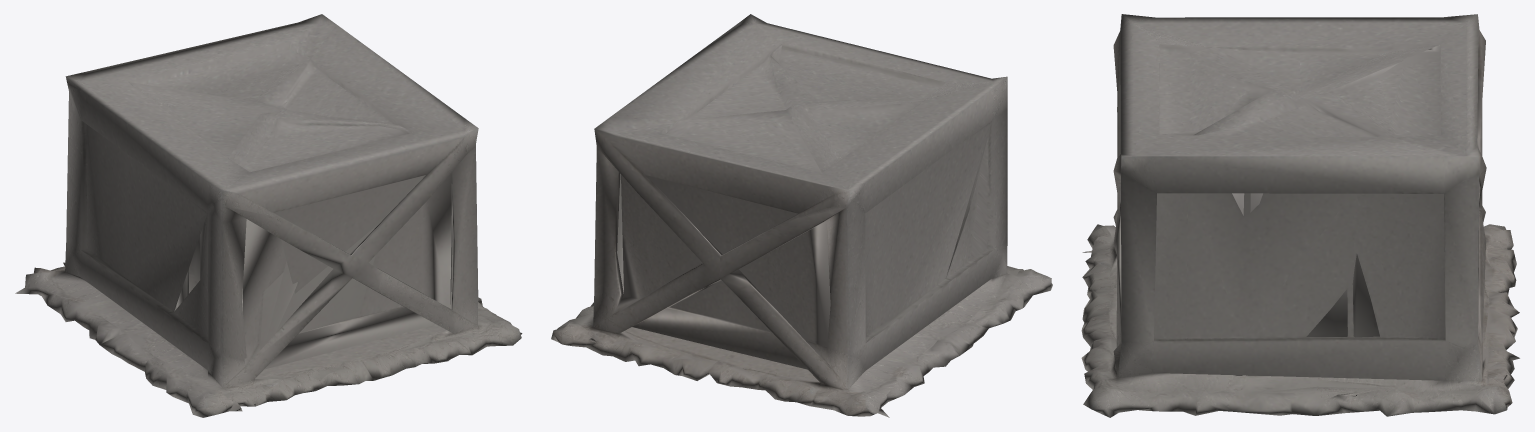
The model's file is crate.glb.
3 views of the same model, side by side, from view 1: azimuth 30°, elevation 25°; view 2: azimuth 150°, elevation 25°; view 3: azimuth 270°, elevation 25° (orthographic). The views are drawn at different scales.
Bounding box in the file's own units: 1.85 × 1.1 × 1.82.
Materials: 1 (1 with a texture image).
